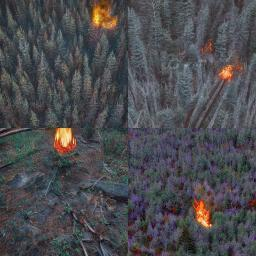Small fire: (90, 1, 120, 31), (192, 197, 215, 229), (52, 127, 77, 154), (217, 62, 244, 82), (197, 36, 217, 58)
